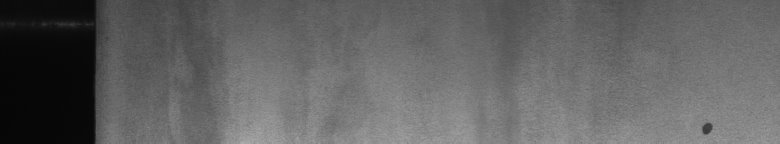fi: (696, 115, 719, 136)
